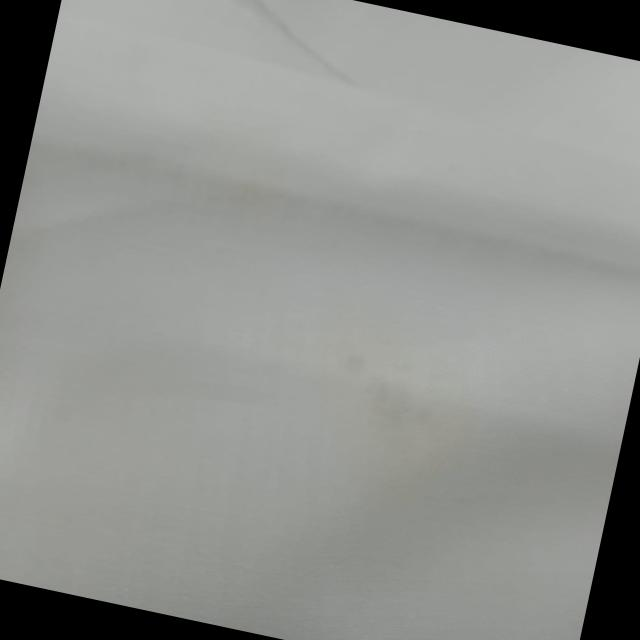stain: (318, 336, 461, 476)
